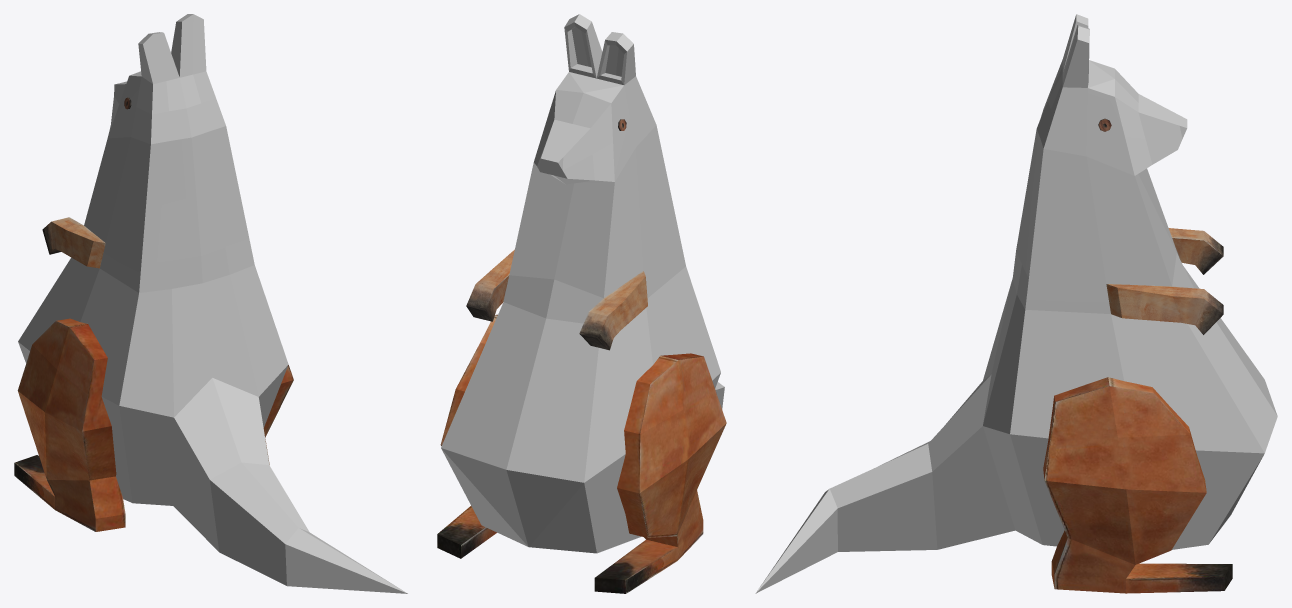
File: Kangaroo.fbx
The picture shows the model from 3 angles, left to right: view 1: azimuth 30°, elevation 25°; view 2: azimuth 150°, elevation 25°; view 3: azimuth 270°, elevation 25°; orthographic projection. The views are drawn at different scales.
Parts seen in each view (by area): view 1: Kangaroo_Body, Kangaroo_Legs, Kangaroo_Hands; view 2: Kangaroo_Body, Kangaroo_Legs, Kangaroo_Hands; view 3: Kangaroo_Body, Kangaroo_Legs, Kangaroo_Hands.
Part boxes in pixels (x1,y1,x2,y2): Kangaroo_Body: [18, 14, 407, 593]; Kangaroo_Legs: [14, 318, 293, 531]; Kangaroo_Hands: [42, 217, 105, 268]; Kangaroo_Body: [441, 14, 724, 553]; Kangaroo_Legs: [437, 314, 726, 593]; Kangaroo_Hands: [466, 249, 647, 350]; Kangaroo_Body: [755, 14, 1277, 593]; Kangaroo_Legs: [1043, 377, 1232, 593]; Kangaroo_Hands: [1106, 228, 1223, 334].
Bounding box in the file's own units: 458 × 1008 × 896.
